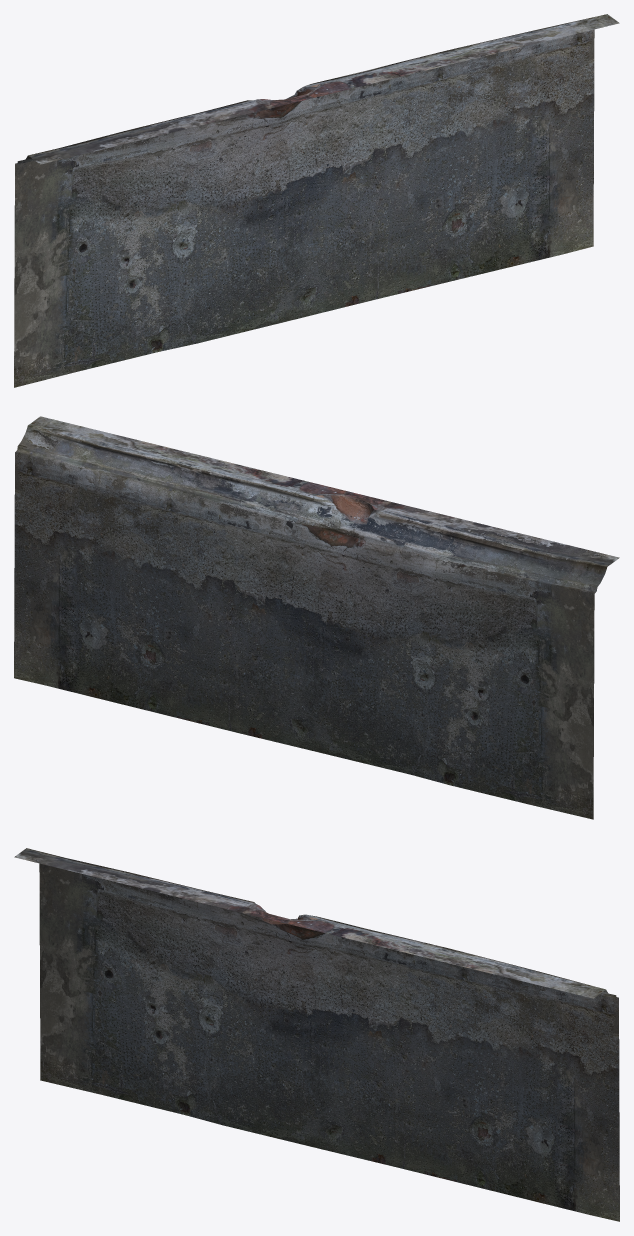
The model's file is SM_ChapelWall_05_01_OneSide.fbx.
The picture shows the model from 3 angles, top to bottom: view 1: azimuth 30°, elevation 25°; view 2: azimuth 150°, elevation 25°; view 3: azimuth 330°, elevation 25°; orthographic projection.
Parts seen in each view (by area): view 1: sm_ChapelWall_05_01_OneSide_LOD0; view 2: sm_ChapelWall_05_01_OneSide_LOD0; view 3: sm_ChapelWall_05_01_OneSide_LOD0.
Part boxes in pixels (bbox=[...]): sm_ChapelWall_05_01_OneSide_LOD0: bbox=[14, 14, 619, 387]; sm_ChapelWall_05_01_OneSide_LOD0: bbox=[14, 416, 619, 819]; sm_ChapelWall_05_01_OneSide_LOD0: bbox=[14, 848, 619, 1221].
Size of the model in its own units: 20.27 by 250 by 100.
